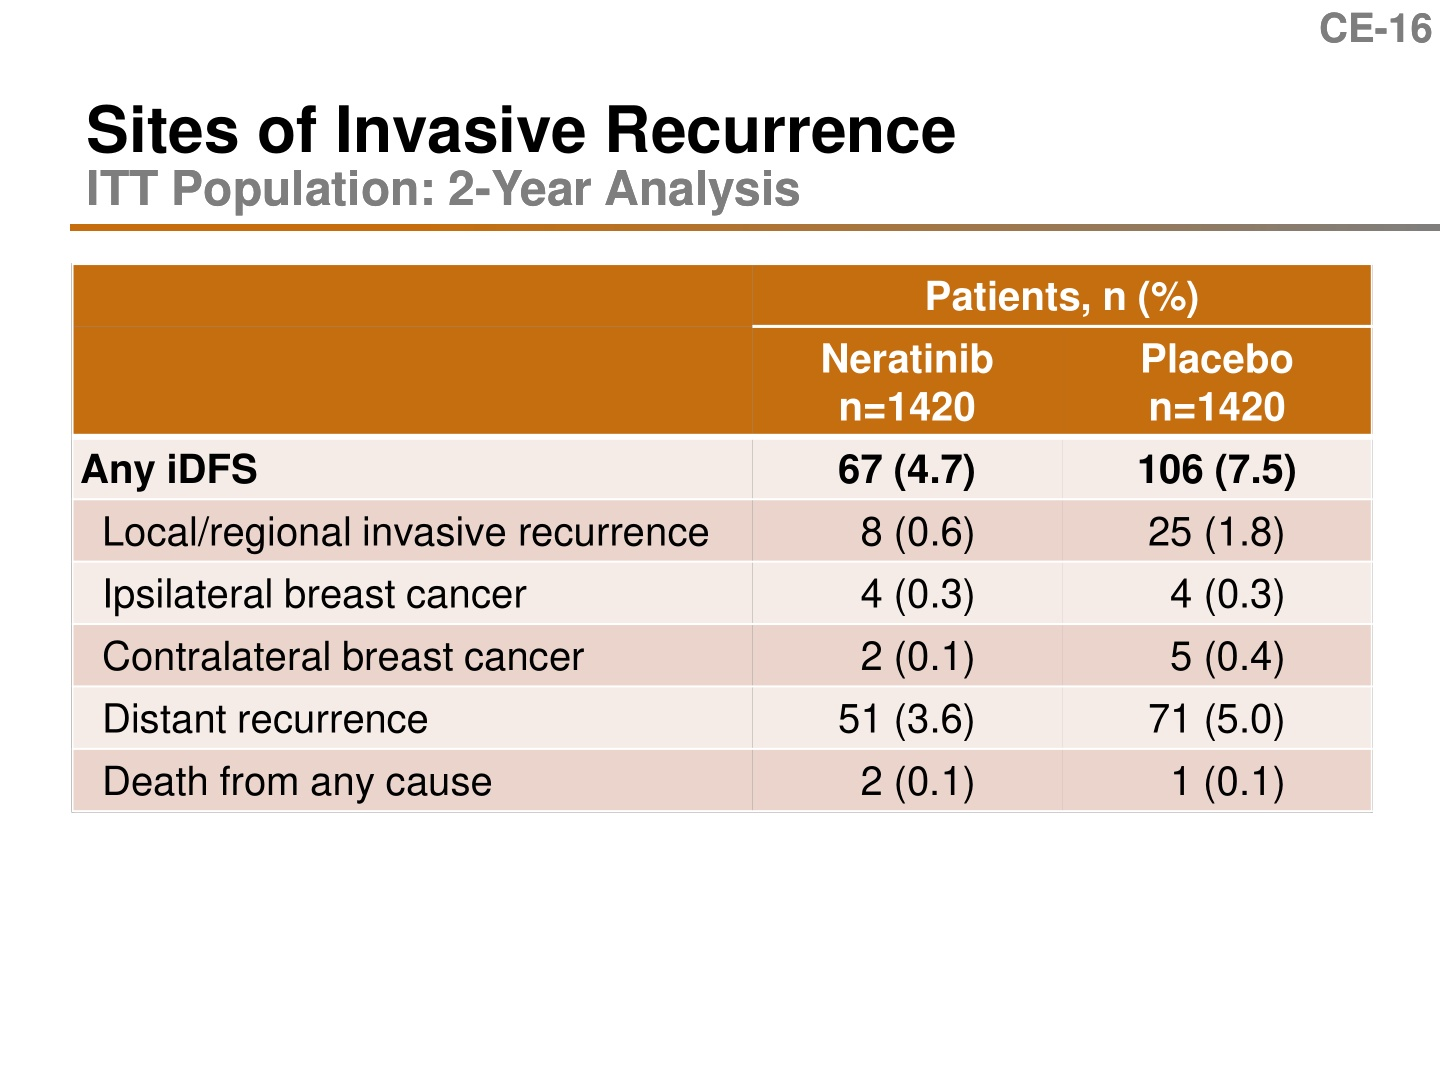merged_cells: (69, 263, 1373, 816)
